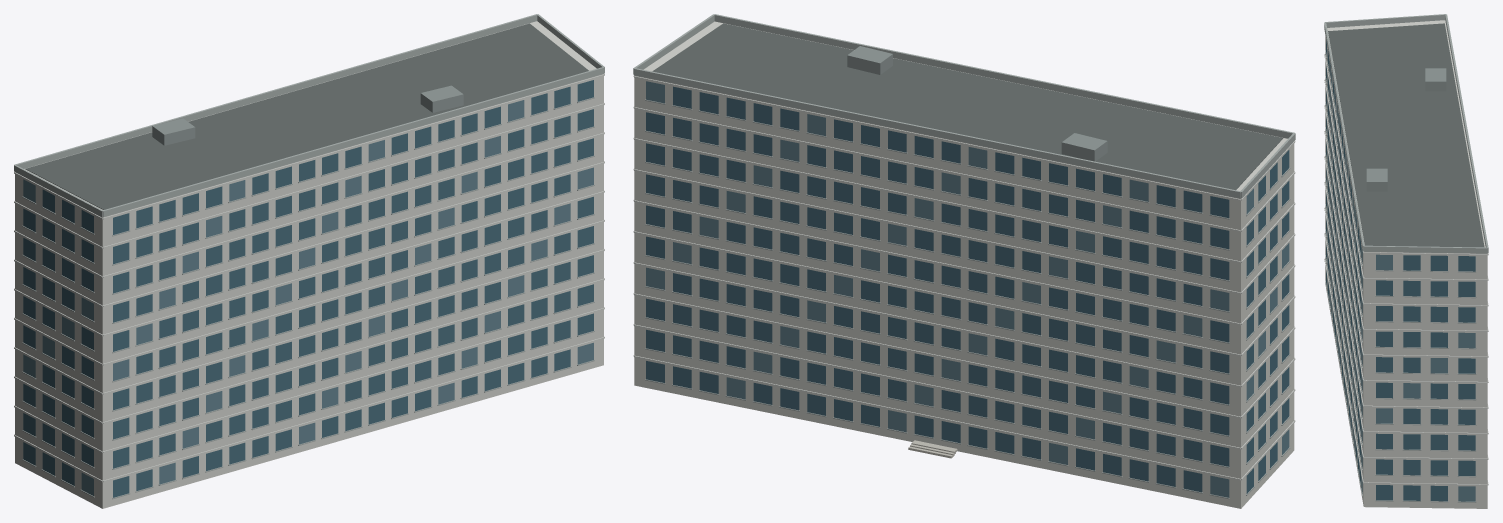
The model's file is 东侧办公园区-003.glb.
3 views of the same model, side by side, from view 1: azimuth 30°, elevation 25°; view 2: azimuth 150°, elevation 25°; view 3: azimuth 270°, elevation 25° (orthographic). The views are drawn at different scales.
Parts seen in each view (by area): view 1: 东侧办公园区-003; view 2: 东侧办公园区-003; view 3: 东侧办公园区-003.
Part boxes in pixels (<box>): 东侧办公园区-003: <box>14,14,604,508</box>; 东侧办公园区-003: <box>633,14,1295,508</box>; 东侧办公园区-003: <box>1324,14,1488,508</box>.
Size of the model in its own units: 70.74 by 37.42 by 20.96.
